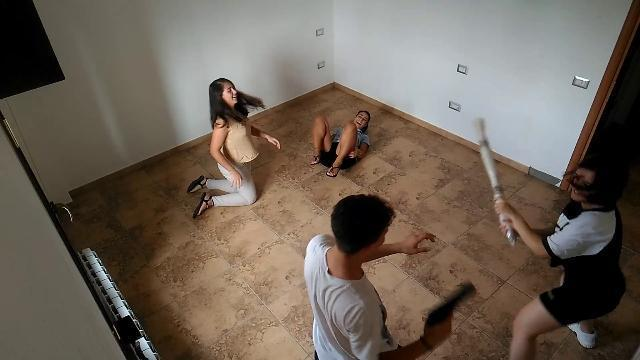non-violence: (185, 76, 282, 216), (308, 105, 372, 178)
violence: (472, 120, 640, 360), (300, 186, 478, 360)
weapon: (428, 283, 476, 323)
